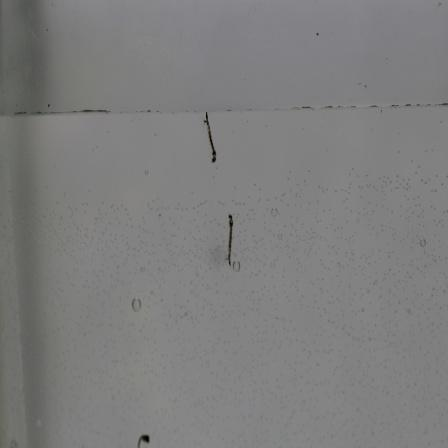Jentik-Nyamuk: (202, 109, 219, 163), (224, 209, 238, 272), (135, 431, 152, 448)
